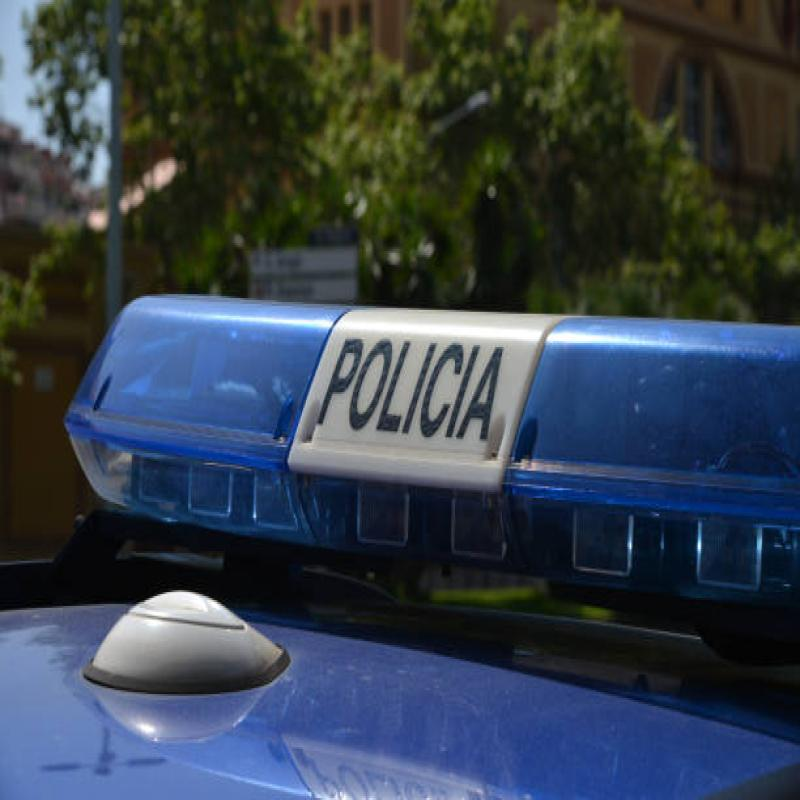AmbulanceSiren: (55, 232, 800, 665)
